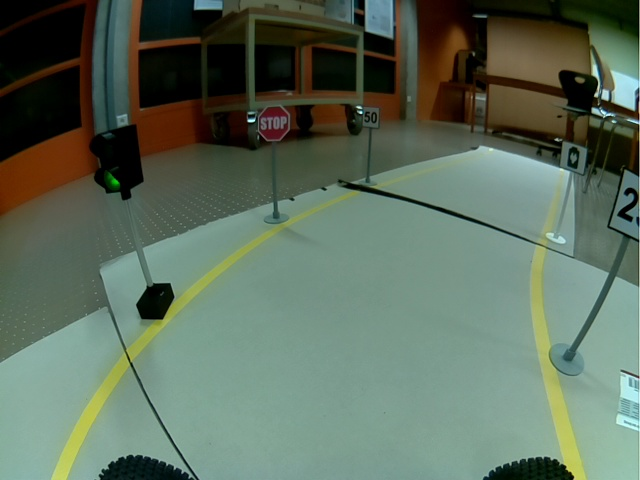battery: (560, 140, 588, 176)
speed25: (607, 168, 640, 241)
speed50: (363, 106, 380, 129)
stop: (257, 105, 291, 141)
trafficLightGreen: (89, 124, 144, 194)
